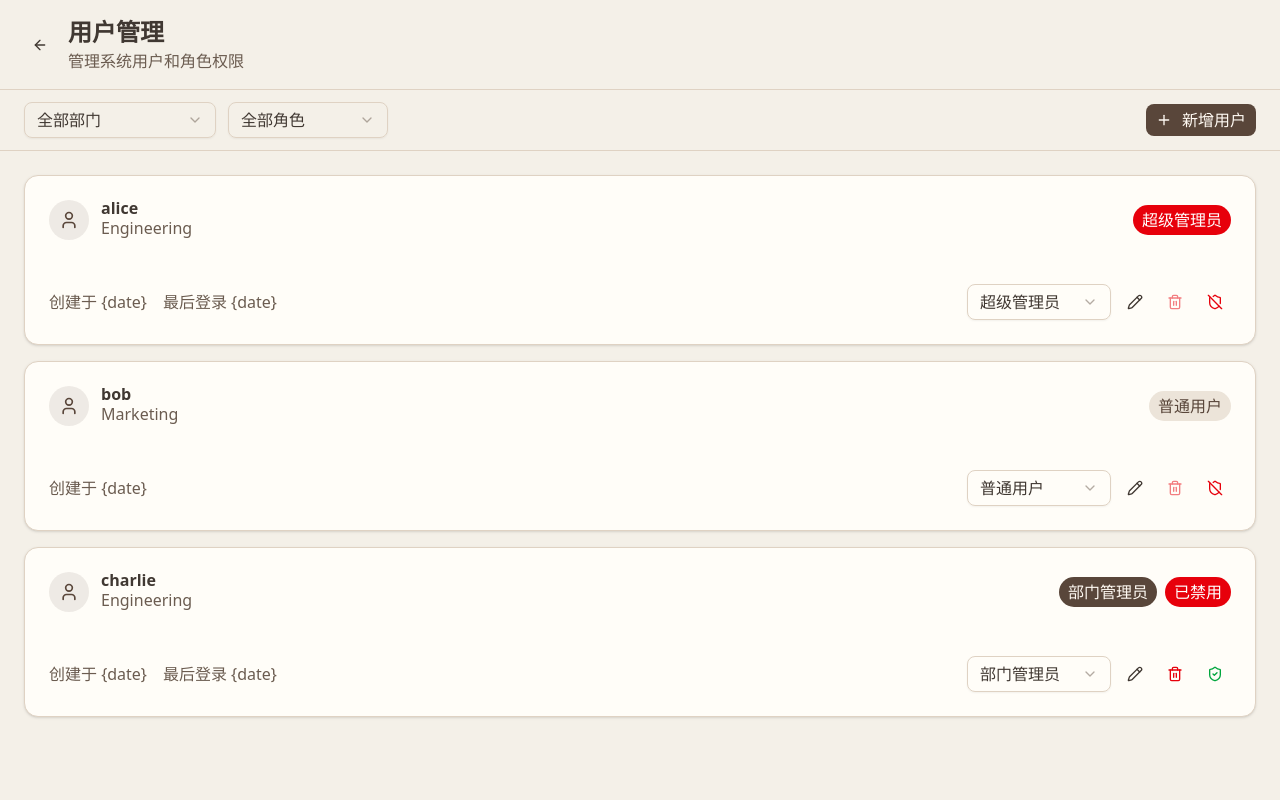
UsersPage › disables button while toggling is in progress
The width and height of the screenshot is (1280, 800).
Click the button with test id "user-toggle-status-button": (1215, 302) [1199,286,1231,318]
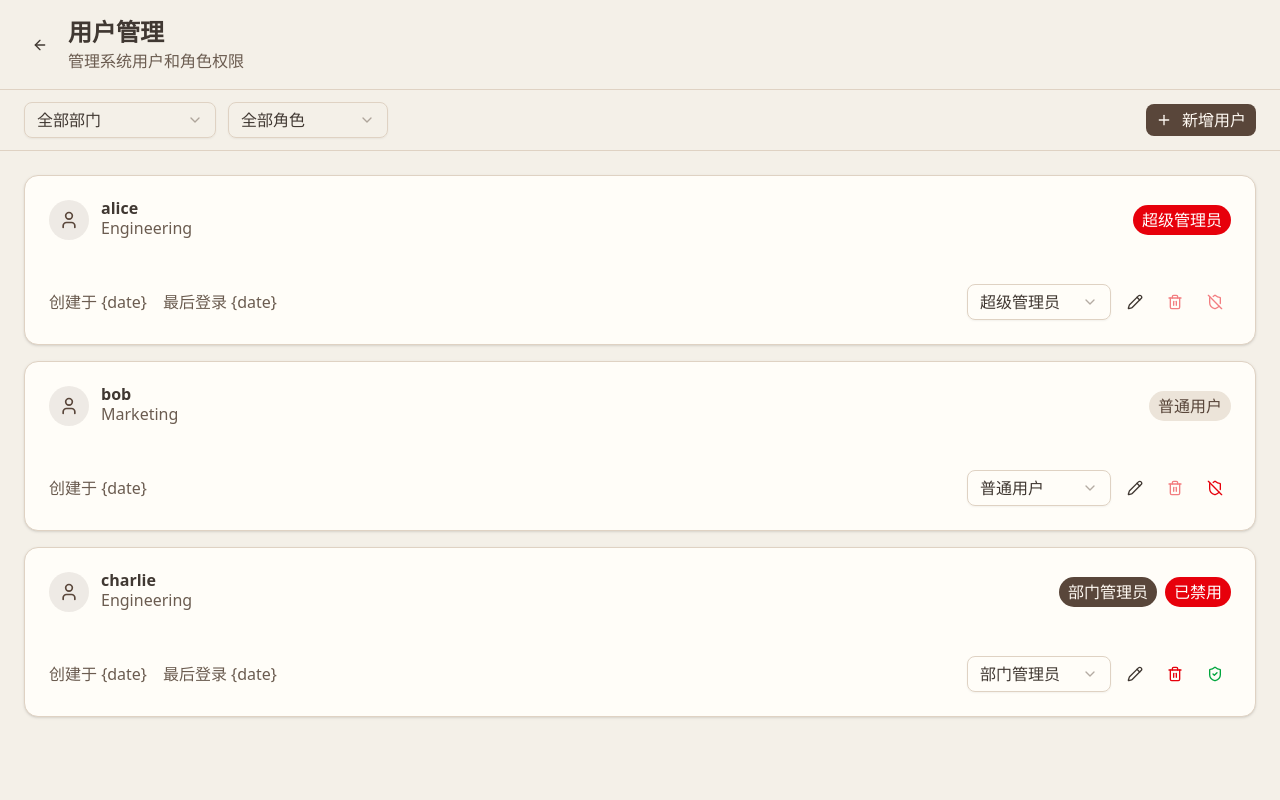
Check: the button with test id "user-toggle-status-button" is disabled, box [1199,286,1231,318]
